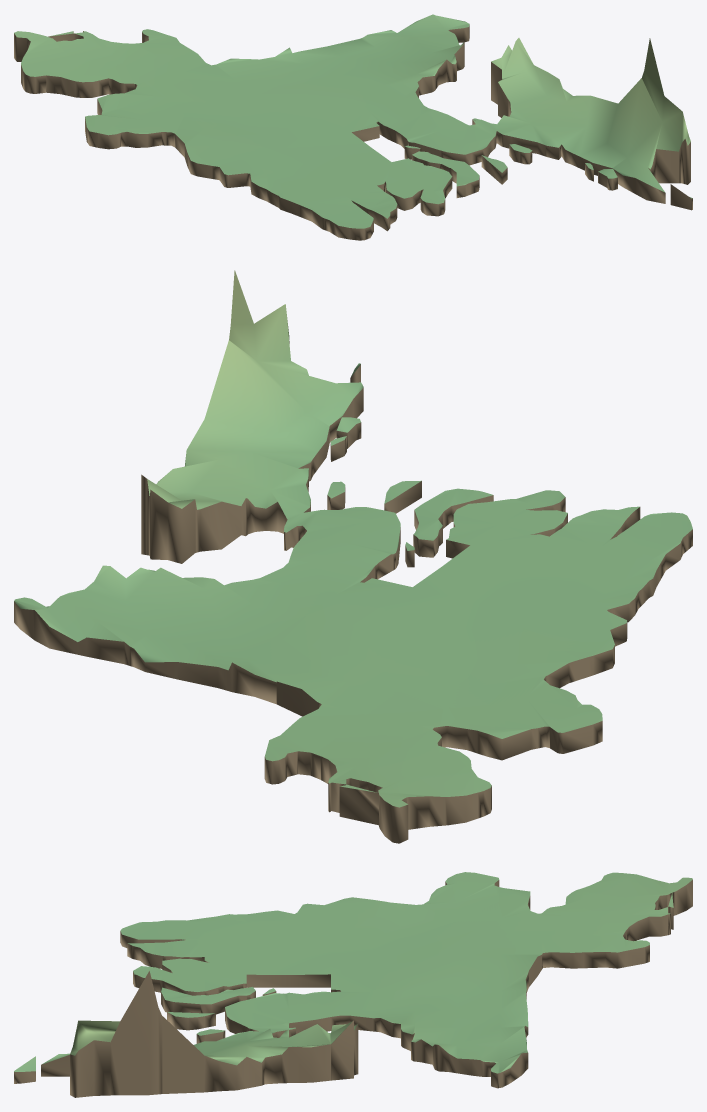
Rendered from BGD.glb.
3 views of the same model, one above another, from view 1: azimuth 30°, elevation 25°; view 2: azimuth 150°, elevation 25°; view 3: azimuth 270°, elevation 25° (orthographic). The views are drawn at different scales.
Parts seen in each view (by area): view 1: BGD; view 2: BGD; view 3: BGD.
Part boxes in pixels (x1,y1,x2,y2): BGD: (14, 14, 692, 240); BGD: (14, 270, 692, 843); BGD: (14, 872, 692, 1097).
Size of the model in its own units: 1.16 by 0.3213 by 1.59.
